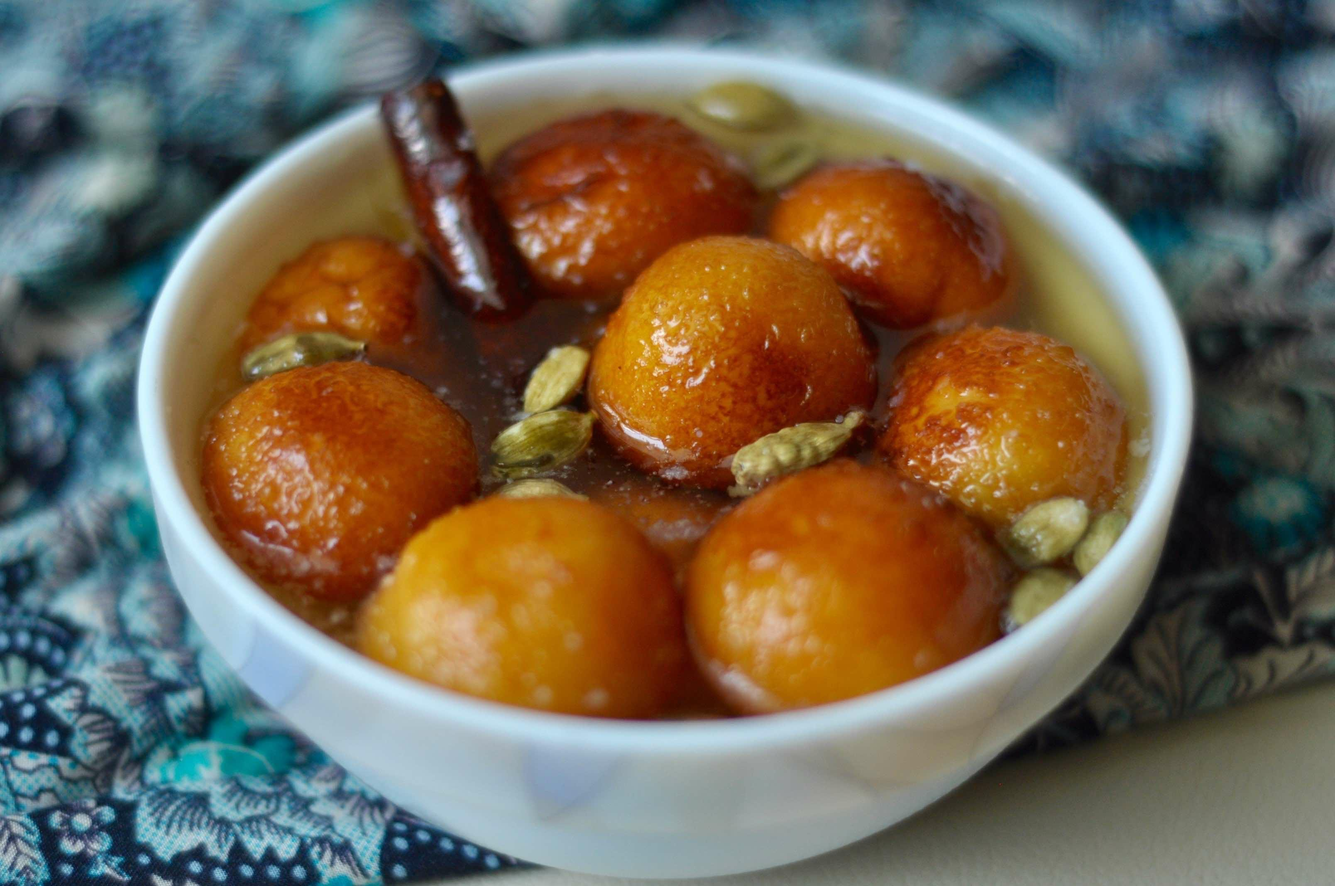GulabJamun: (675, 450, 1007, 718), (362, 488, 687, 720), (588, 232, 876, 483), (200, 357, 470, 601), (476, 100, 770, 301), (882, 326, 1138, 533), (779, 151, 1019, 334), (225, 234, 470, 398)
